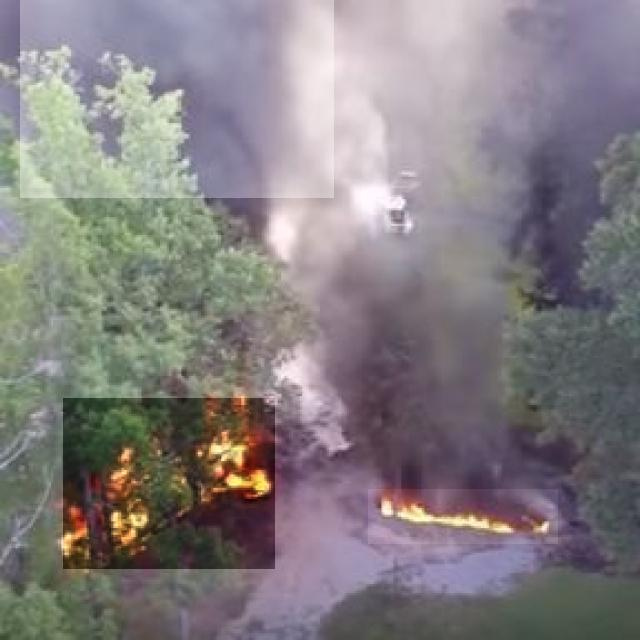Fire: (63, 398, 275, 569), (368, 489, 558, 544)
Smoke: (335, 0, 640, 488), (20, 0, 334, 198)
